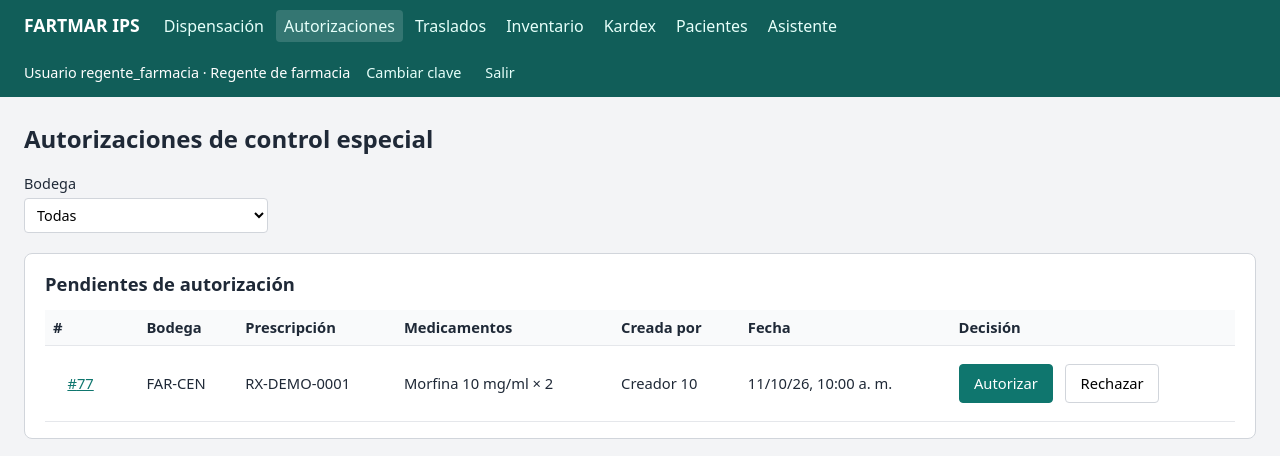
Test: Bandeja de autorizaciones › autoriza desde la lista y la fila desaparece al recargar
Double-click the button with aria-label "Autorizar dispensación 77" at (1006, 383), box [958,364,1053,403]
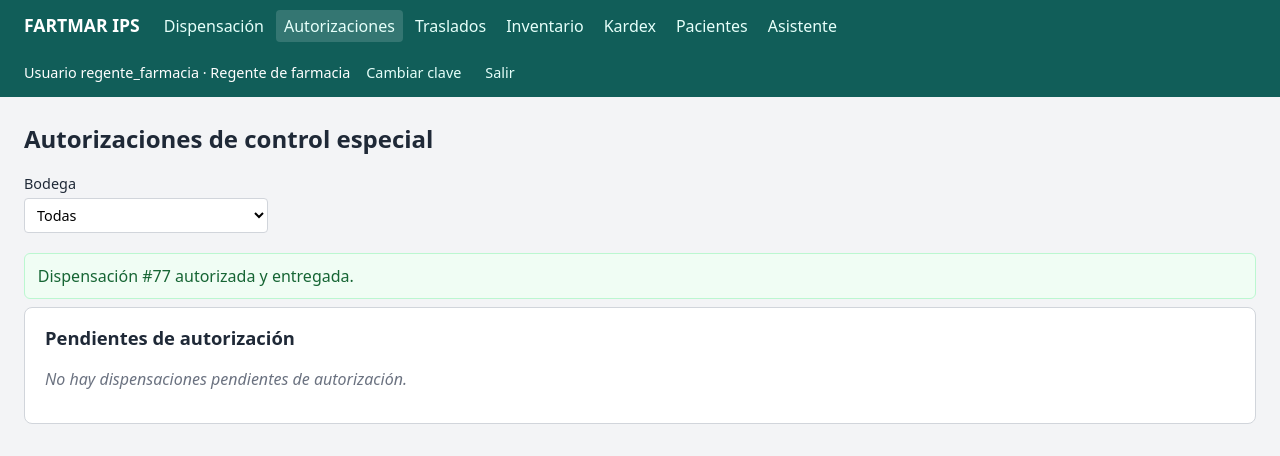
Now the text "Dispensación #77 autorizada y entregada." is shown, box [24,253,1256,299]
Now the text "No hay dispensaciones pendientes de autorización." is shown, box [45,368,407,390]
